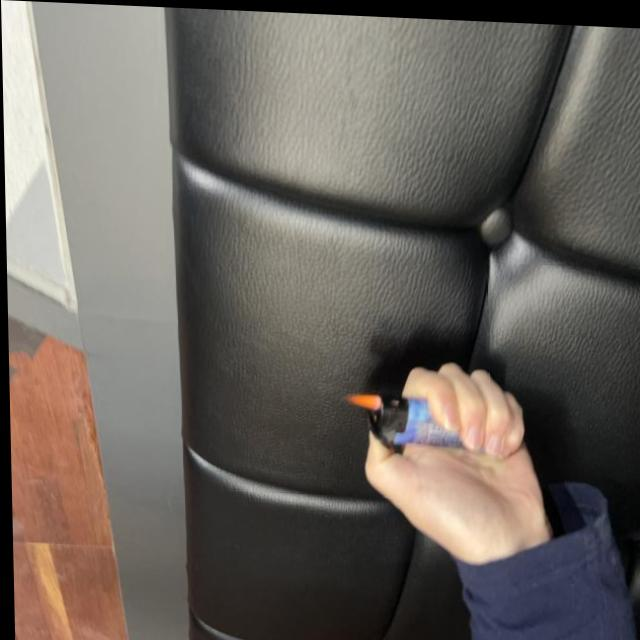Fire: (341, 389, 381, 410)
